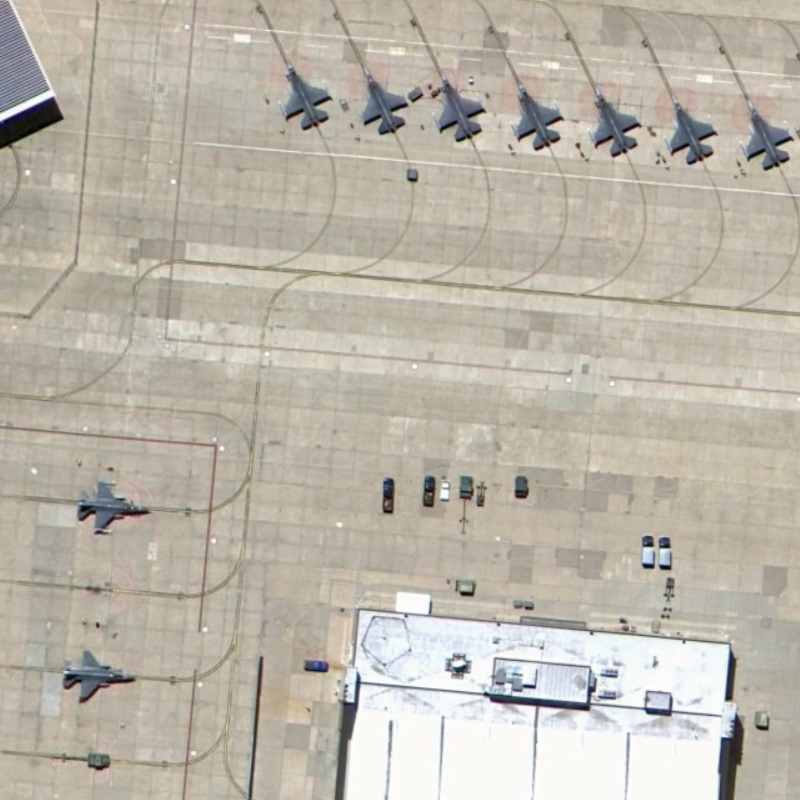A5: (272, 50, 339, 135), (430, 59, 492, 147), (74, 471, 152, 539), (587, 77, 646, 165), (58, 641, 136, 707), (509, 71, 569, 155), (357, 54, 415, 140), (734, 94, 797, 171), (666, 84, 719, 172)
